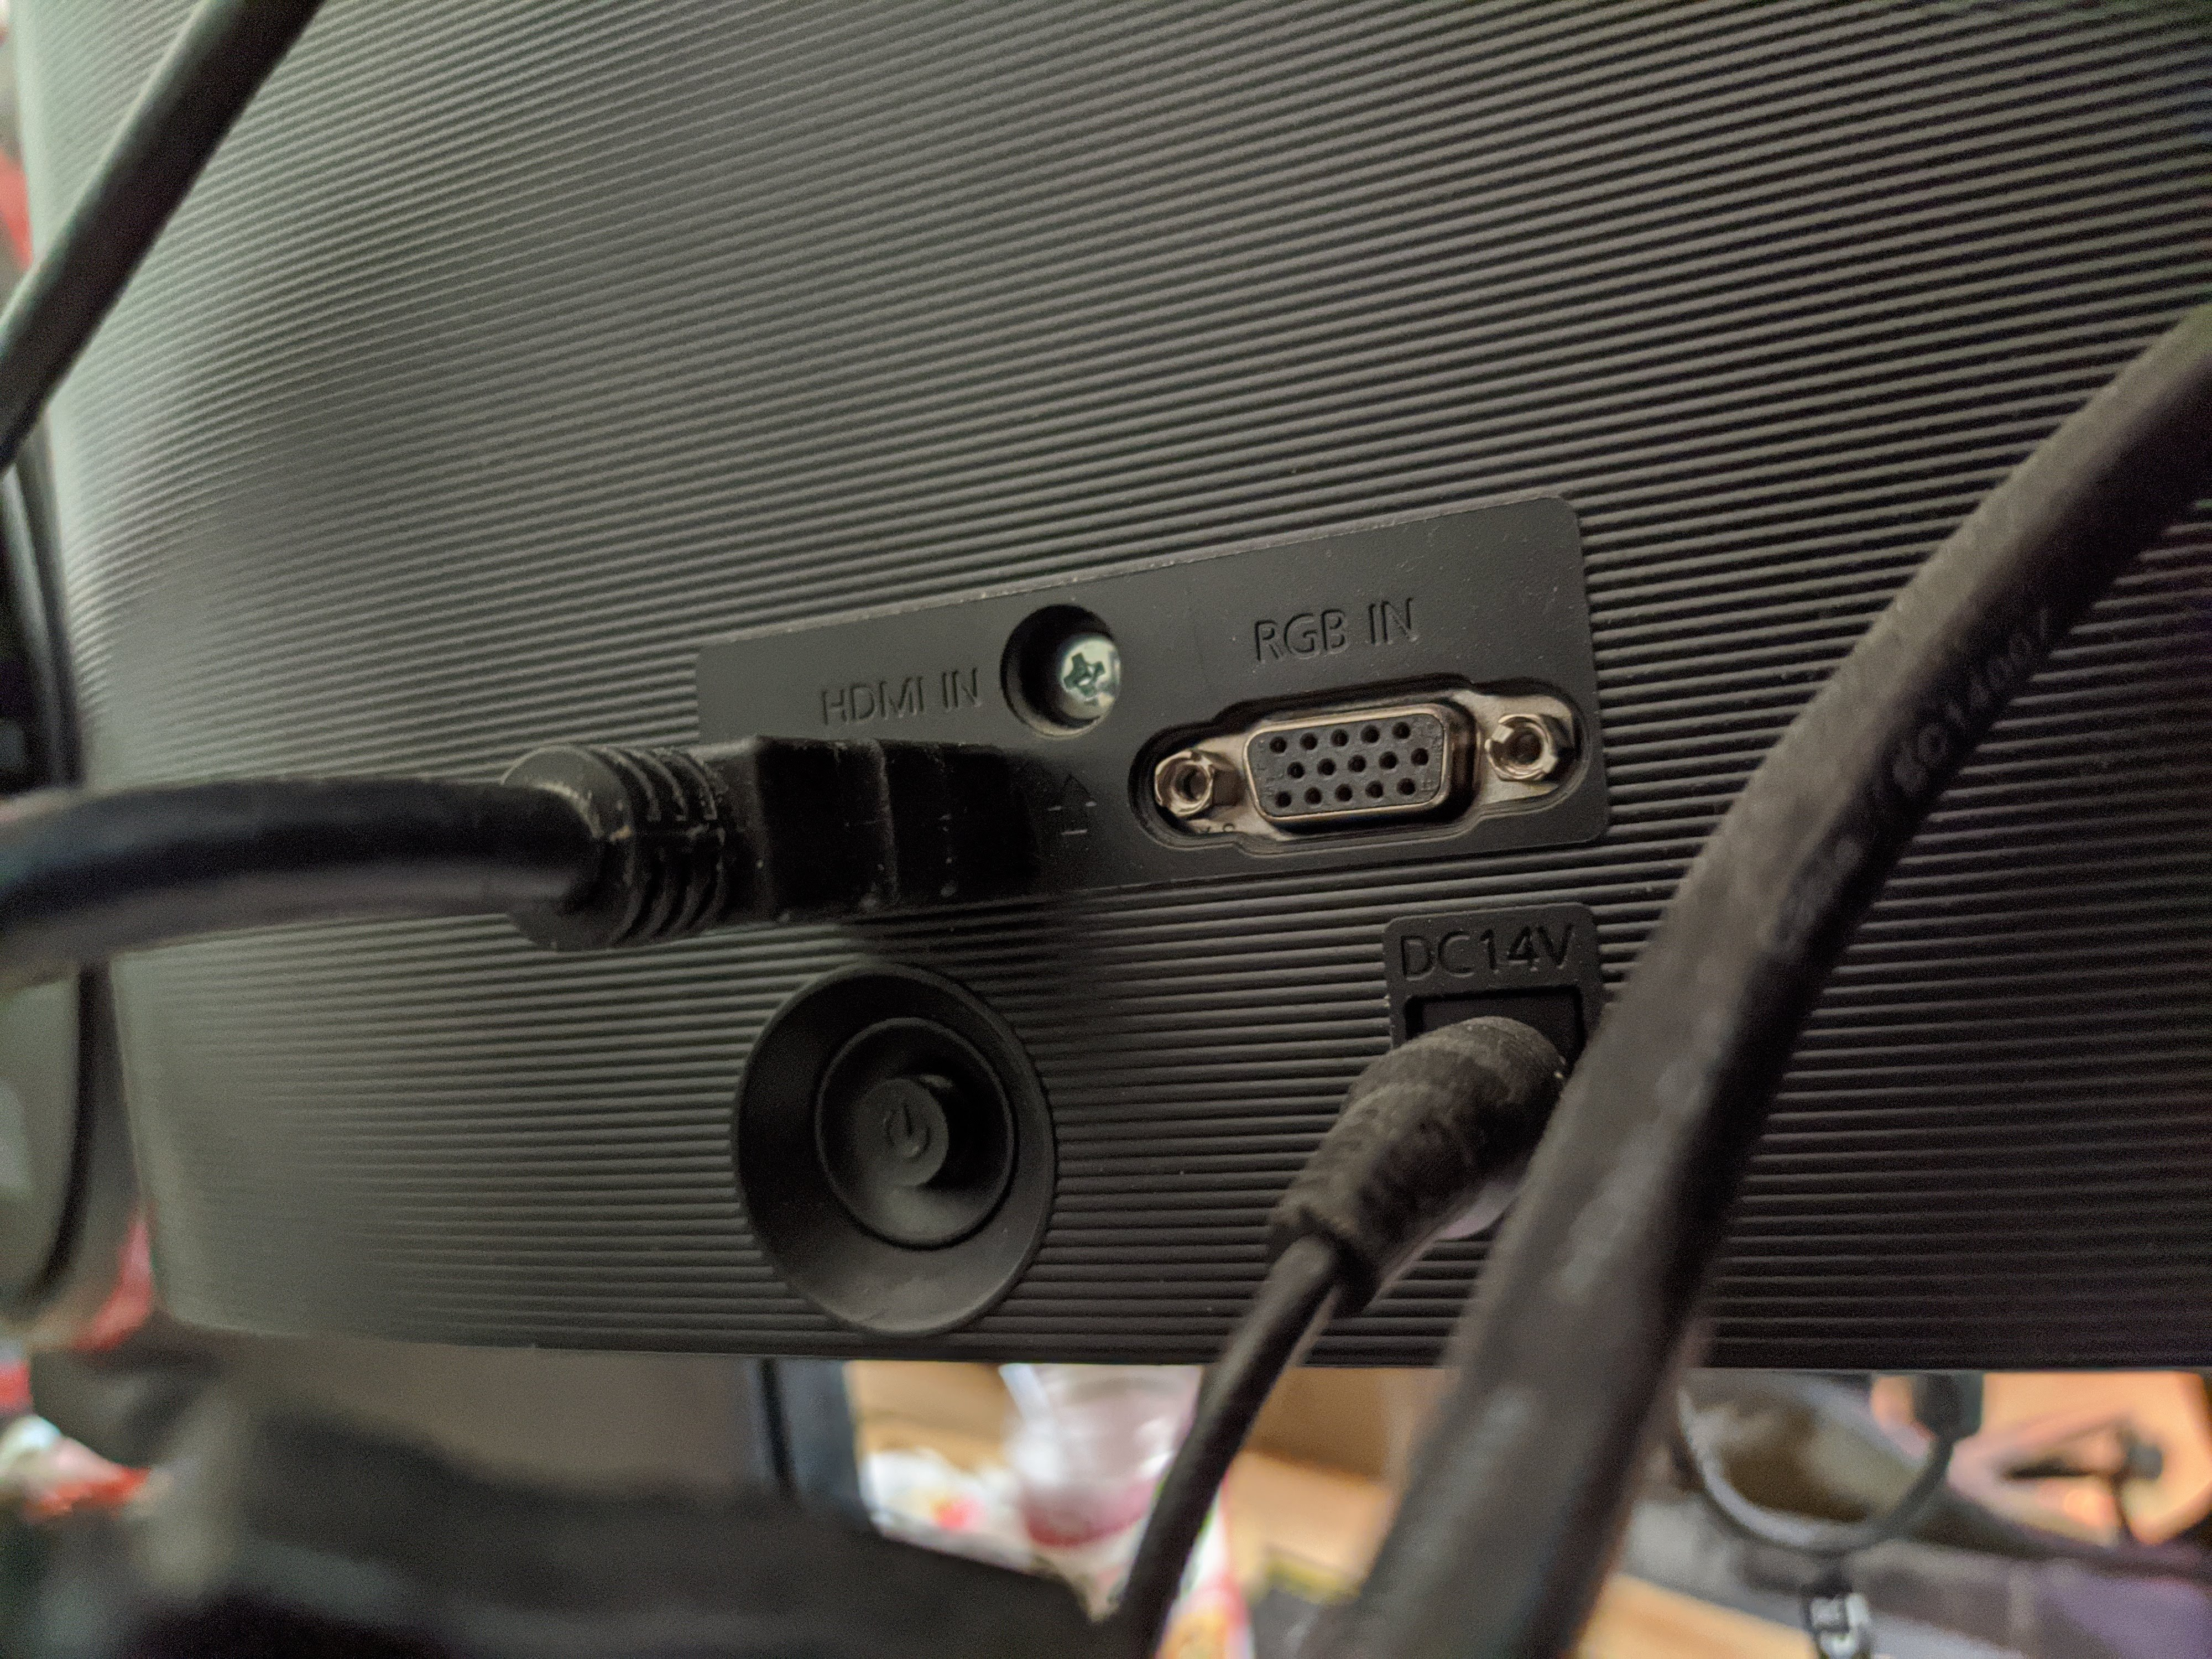VGA_in: (1136, 687, 1564, 836)
